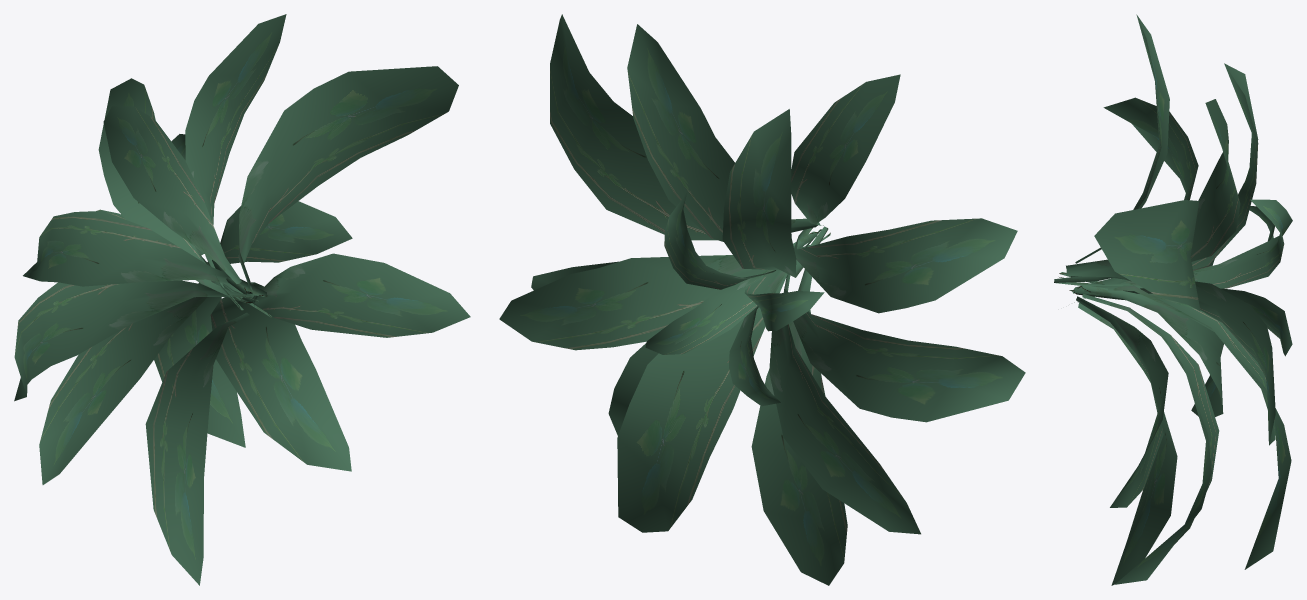
Rendered from Bush_0027.FBX.
3 views of the same model, side by side, from view 1: azimuth 30°, elevation 25°; view 2: azimuth 150°, elevation 25°; view 3: azimuth 270°, elevation 25° (orthographic). The views are drawn at different scales.
Parts seen in each view (by area): view 1: plant1_LOD0; view 2: plant1_LOD0; view 3: plant1_LOD0.
Part boxes in pixels (left/top/right/bottom): plant1_LOD0: left=14, top=14, right=470, bottom=585; plant1_LOD0: left=499, top=14, right=1025, bottom=585; plant1_LOD0: left=1054, top=14, right=1292, bottom=585.
Size of the model in its own units: 264 by 113 by 288.
